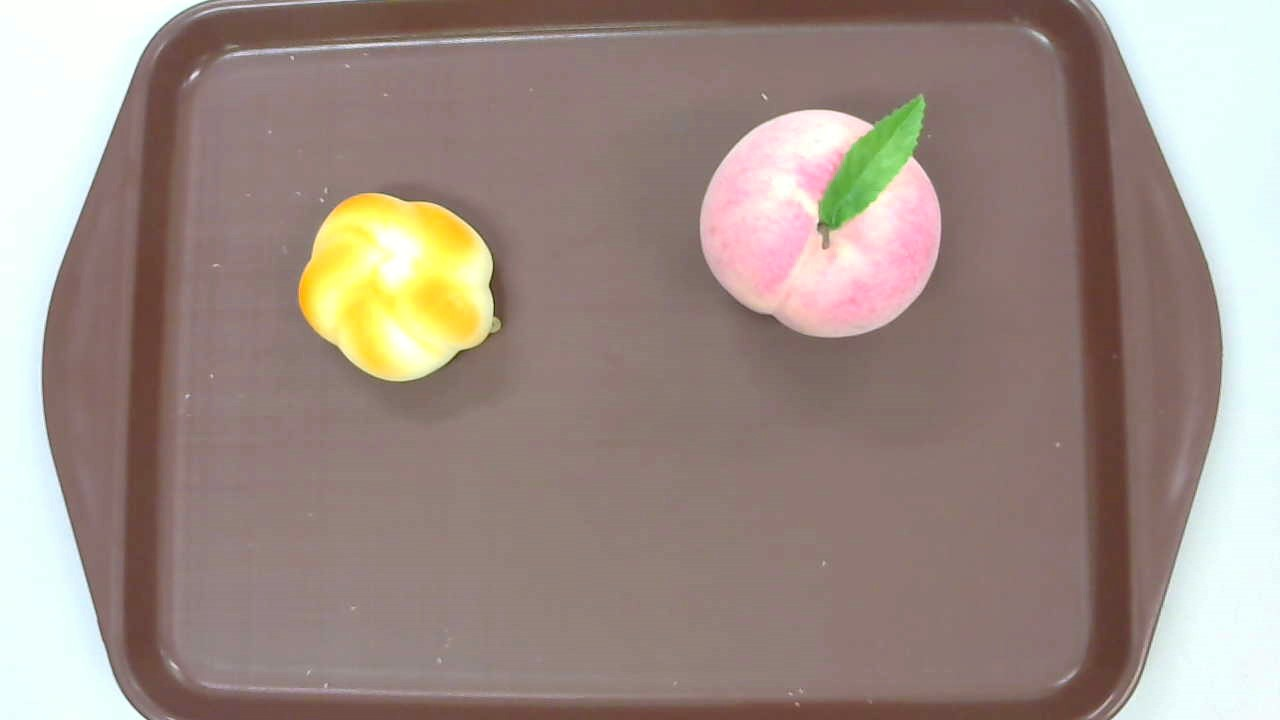peaches: (700, 93, 942, 336)
twist bread: (296, 191, 503, 384)
